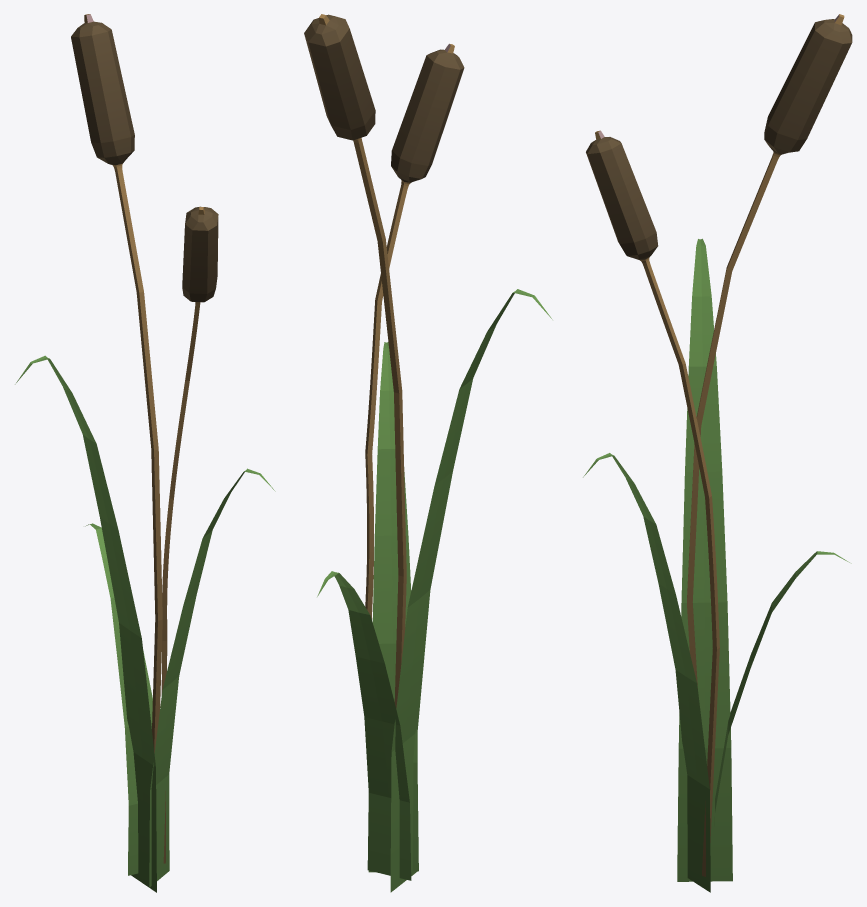
The model's file is reeds.glb.
3 views of the same model, side by side, from view 1: azimuth 30°, elevation 25°; view 2: azimuth 150°, elevation 25°; view 3: azimuth 270°, elevation 25° (orthographic). The views are drawn at different scales.
Parts seen in each view (by area): view 1: quenouille, Plane.037, quenouille.001, Plane.038, Plane.039; view 2: quenouille, Plane.037, Plane.039, quenouille.001, Plane.038; view 3: Plane.037, quenouille, quenouille.001, Plane.038, Plane.039.
Part boxes in pixels (x1=…): quenouille: x1=71, y1=14, x2=162, y2=753; Plane.037: x1=15, y1=355, x2=156, y2=892; quenouille.001: x1=161, y1=206, x2=218, y2=863; Plane.038: x1=149, y1=468, x2=275, y2=887; Plane.039: x1=85, y1=523, x2=152, y2=875; quenouille: x1=304, y1=14, x2=406, y2=708; Plane.037: x1=390, y1=289, x2=552, y2=892; Plane.039: x1=317, y1=571, x2=411, y2=880; quenouille.001: x1=365, y1=43, x2=464, y2=619; Plane.038: x1=368, y1=342, x2=418, y2=872; Plane.037: x1=677, y1=238, x2=732, y2=881; quenouille: x1=687, y1=14, x2=852, y2=688; quenouille.001: x1=586, y1=130, x2=719, y2=876; Plane.038: x1=583, y1=453, x2=710, y2=892; Plane.039: x1=714, y1=551, x2=851, y2=826.
Bounding box in the file's own units: 0.5595 × 2.13 × 0.5995.
Materials: 5 (5 with a texture image).
